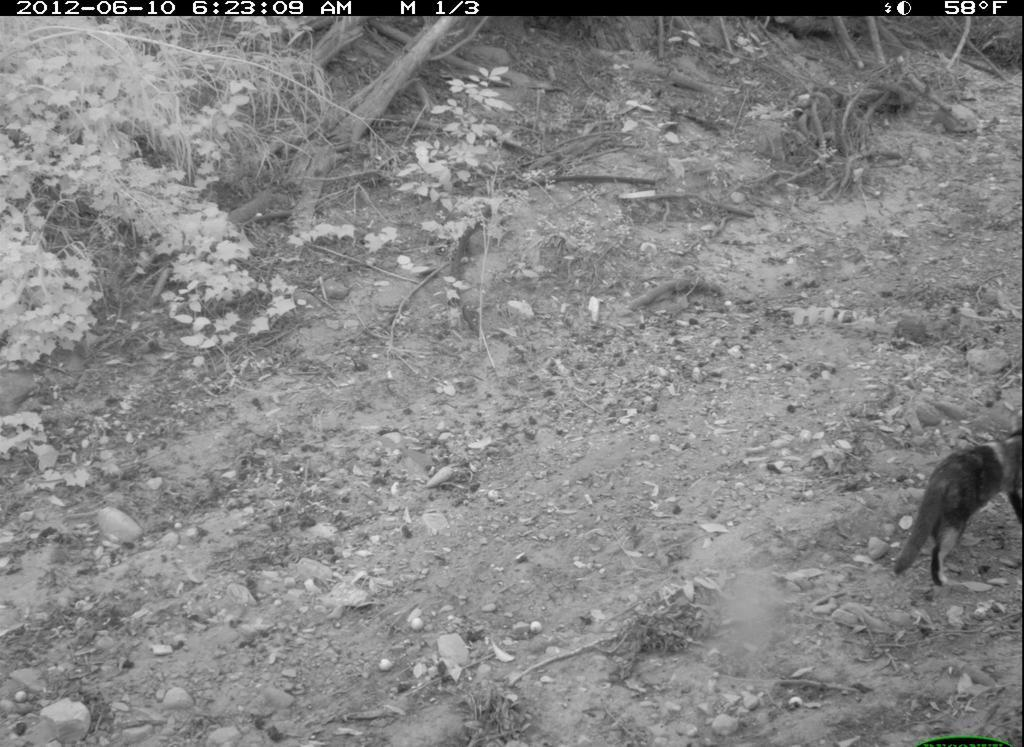cat: (890, 408, 1022, 602)
